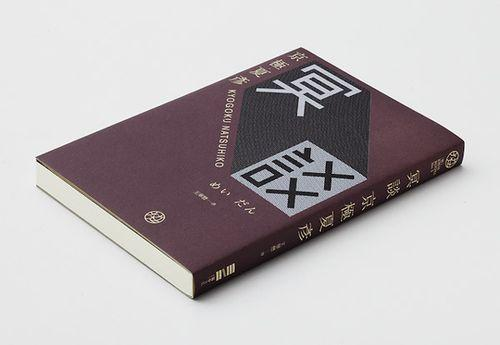book: (24, 33, 481, 318)
